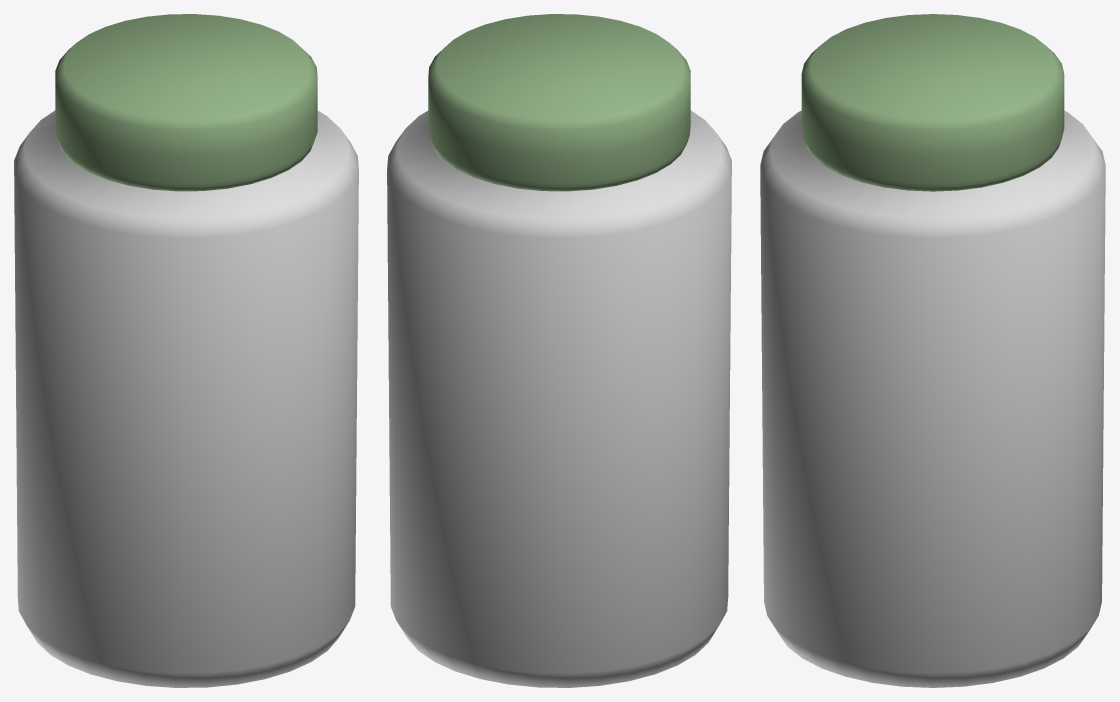
File: gula pasir fix.fbx
3 views of the same model, side by side, from view 1: azimuth 30°, elevation 25°; view 2: azimuth 150°, elevation 25°; view 3: azimuth 270°, elevation 25° (orthographic).
Visible parts, largest first — view 1: Cylinder, Cylinder.002; view 2: Cylinder, Cylinder.002; view 3: Cylinder, Cylinder.002.
Part boxes in pixels (<box>): Cylinder: <box>14,110,358,687</box>; Cylinder.002: <box>55,14,317,191</box>; Cylinder: <box>387,110,731,687</box>; Cylinder.002: <box>428,14,690,191</box>; Cylinder: <box>760,110,1105,687</box>; Cylinder.002: <box>801,14,1064,191</box>.
Bounding box in the file's own units: 13.35 × 23.69 × 13.35.
